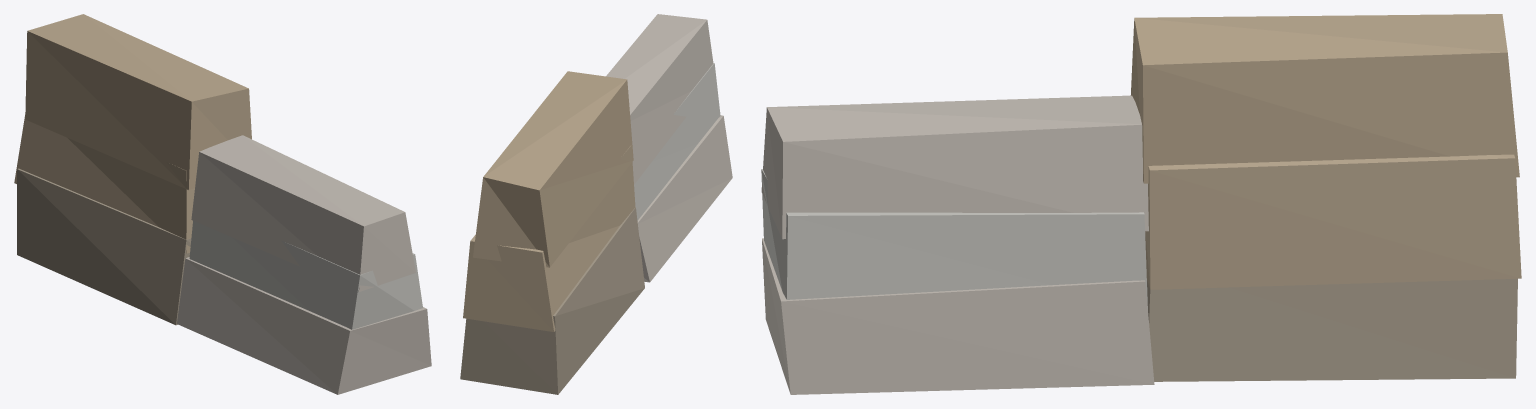
Rendered from farm_-5_11_mid.glb.
3 renders of one model, left to right at view 1: azimuth 30°, elevation 25°; view 2: azimuth 150°, elevation 25°; view 3: azimuth 270°, elevation 25°, orthographic. The views are drawn at different scales.
Visible parts, largest first — view 1: geometry_0; view 2: geometry_0; view 3: geometry_0.
Part boxes in pixels (left/top/right/bottom): geometry_0: left=14, top=14, right=431, bottom=394; geometry_0: left=460, top=14, right=732, bottom=394; geometry_0: left=761, top=14, right=1521, bottom=394.
Bounding box in the file's own units: 1.19 × 1.55 × 3.22.
